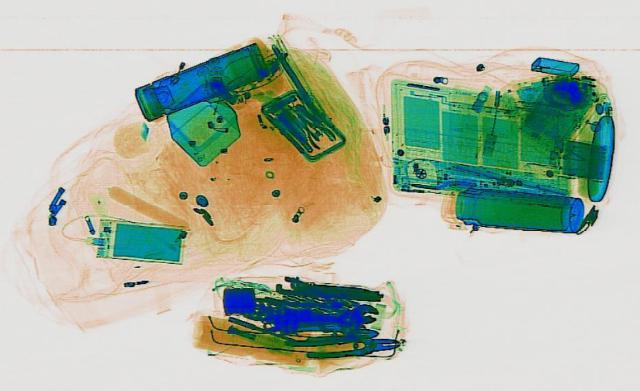Pliers: (282, 330, 400, 359), (283, 110, 343, 150)
Wrench: (314, 301, 378, 325)
